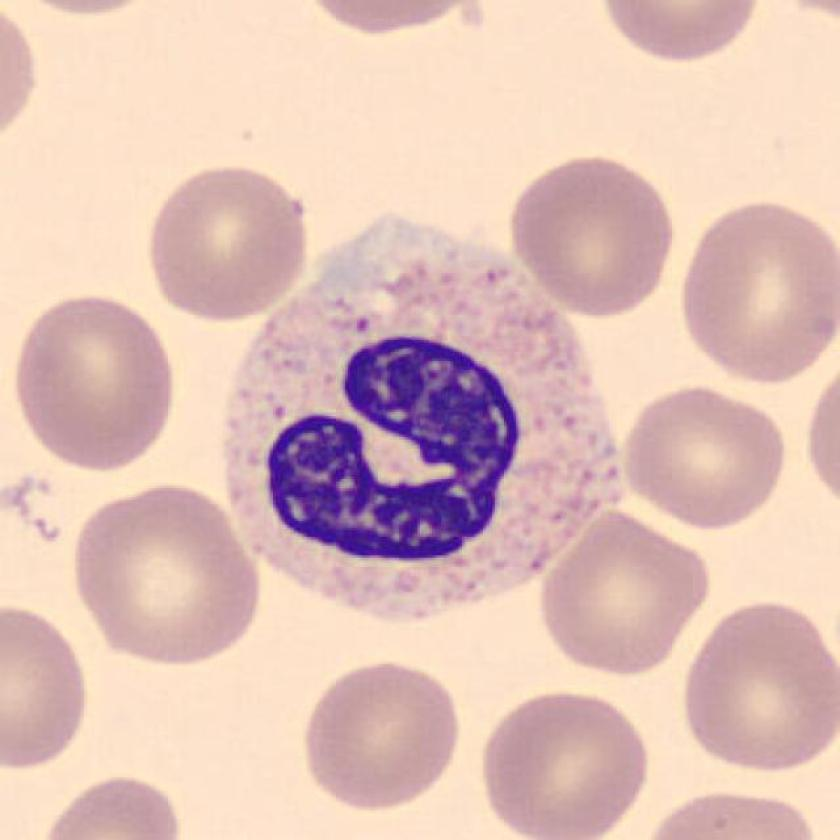neutrophil: (216, 219, 619, 611)
